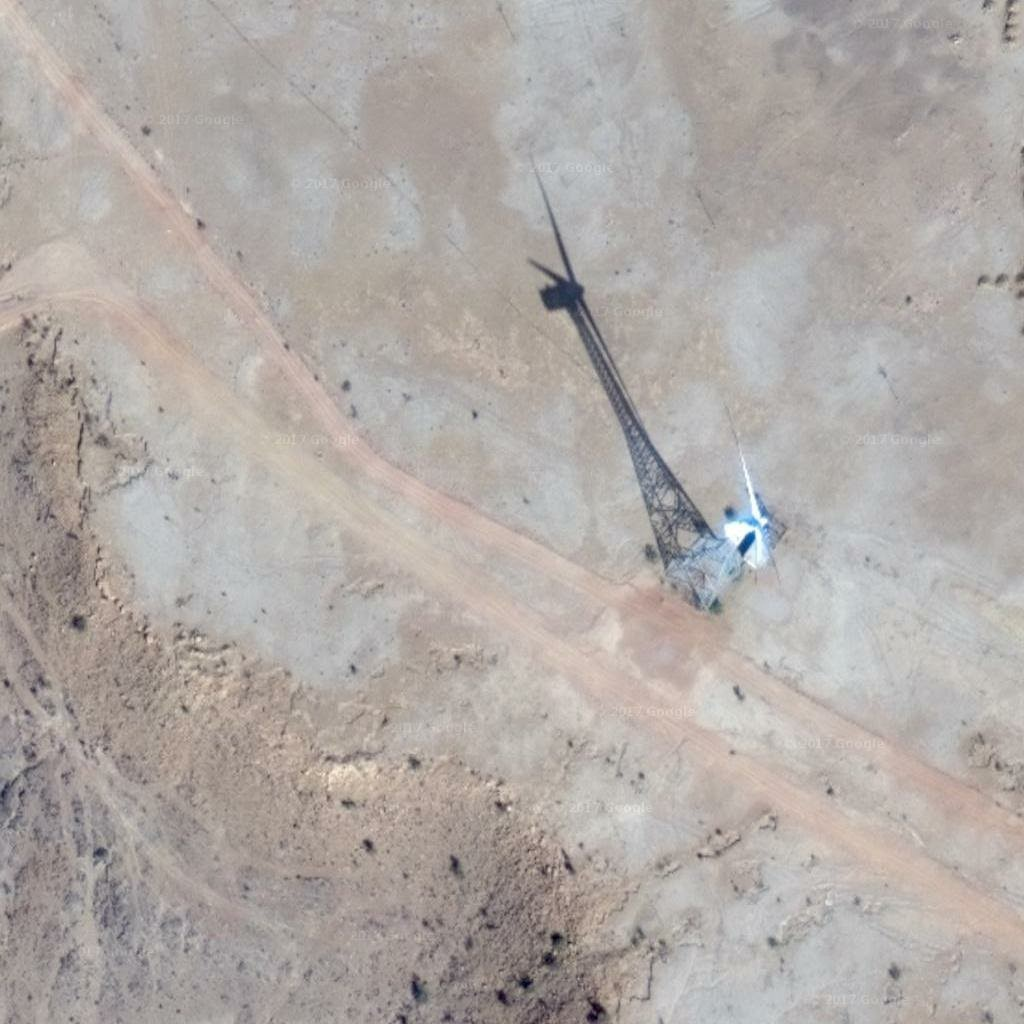Windmill: (496, 168, 742, 571)
